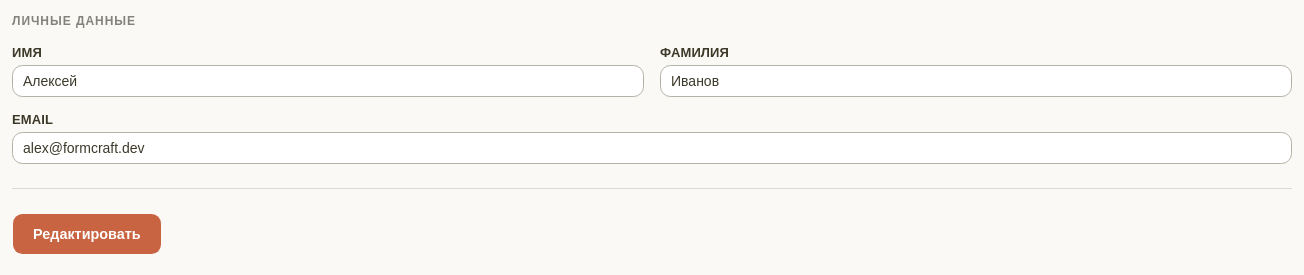
Test: ProfileForm › «Сохранить» появляется только после первого изменения поля
Click the button "Редактировать": (87, 234) x1=12 y1=213 x2=162 y2=255
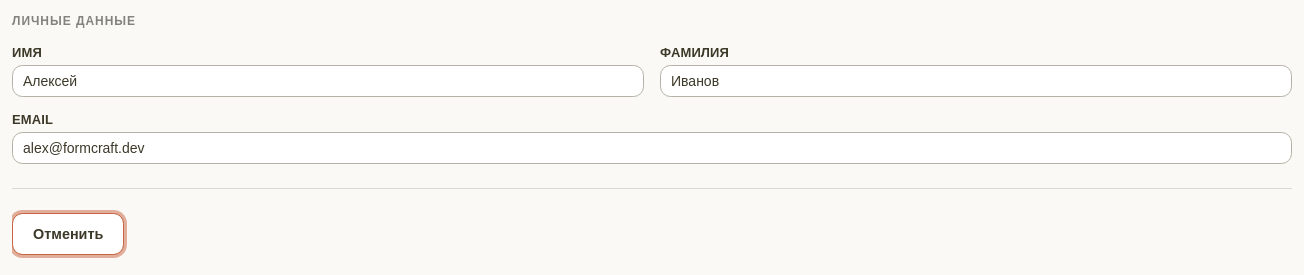
Expected: the button "Сохранить" is not shown
In the field labelled "Имя": (328, 81) x1=12 y1=65 x2=644 y2=97, type "ч"
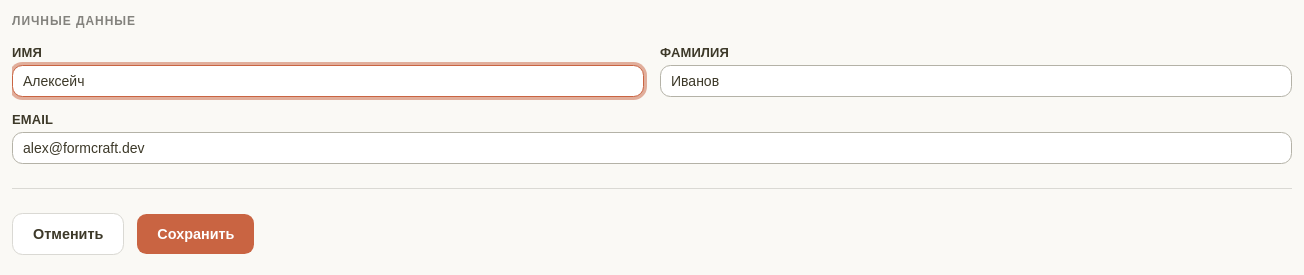
Now the button "Сохранить" is shown, box x1=136 y1=213 x2=255 y2=255
